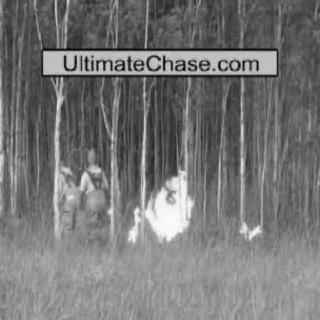Fire: (106, 204, 116, 216)
